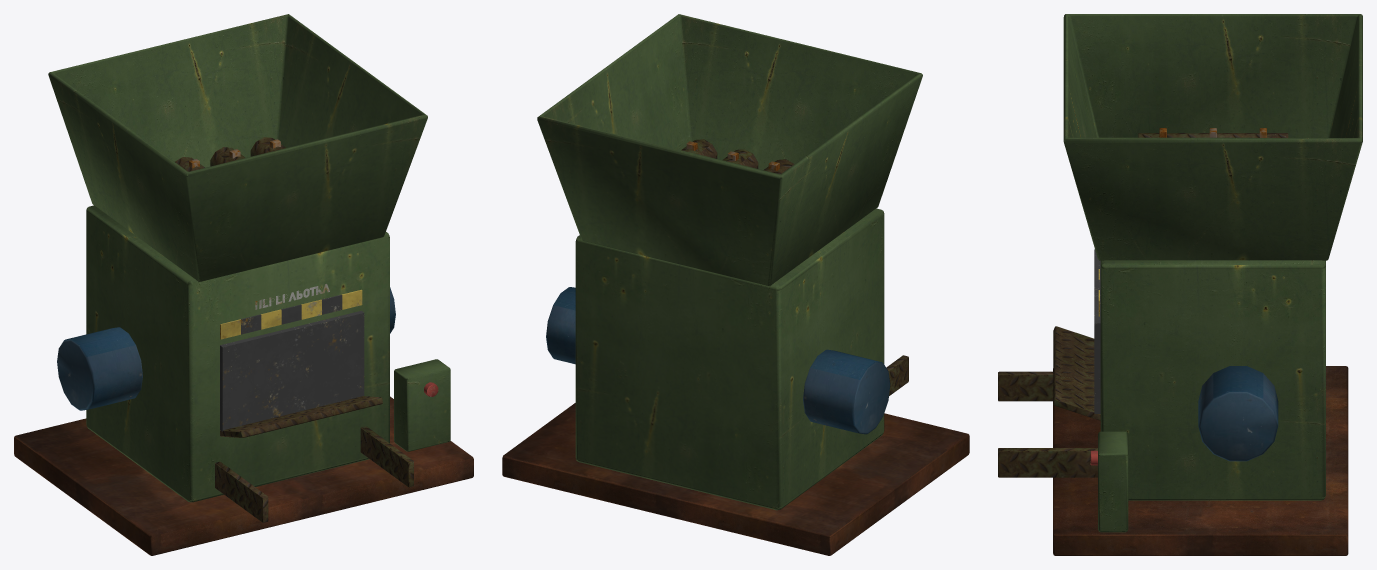
File: deploy_recycler.glb
The picture shows the model from 3 angles, left to right: view 1: azimuth 30°, elevation 25°; view 2: azimuth 150°, elevation 25°; view 3: azimuth 270°, elevation 25°; orthographic projection. The views are drawn at different scales.
Visible parts, largest first — view 1: cyl, box.001, box, box.015, cyl.005, box.026, box.023, box.025, box.024; view 2: cyl, box.001, box, cyl.005, cyl.006, box.024; view 3: cyl, box.001, box, cyl.006, box.023, box.026, box.025, box.024, box.015, cyl.001.
Part boxes in pixels (bbox=[...]): cyl: bbox=[48, 14, 427, 281]; box.001: bbox=[86, 205, 389, 502]; box: bbox=[14, 396, 473, 555]; box.015: bbox=[220, 310, 364, 431]; cyl.005: bbox=[57, 327, 142, 410]; box.026: bbox=[394, 359, 450, 451]; box.023: bbox=[220, 396, 382, 437]; box.025: bbox=[360, 426, 413, 487]; box.024: bbox=[215, 461, 268, 522]; cyl: bbox=[537, 14, 922, 286]; box.001: bbox=[575, 208, 884, 510]; box: bbox=[502, 403, 969, 555]; cyl.005: bbox=[803, 349, 890, 434]; cyl.006: bbox=[546, 287, 575, 364]; box.024: bbox=[886, 355, 908, 395]; cyl: bbox=[1063, 14, 1362, 260]; box.001: bbox=[1100, 260, 1325, 500]; box: bbox=[1053, 366, 1348, 555]; cyl.006: bbox=[1198, 366, 1278, 461]; box.023: bbox=[1053, 326, 1100, 420]; box.026: bbox=[1098, 431, 1128, 532]; box.025: bbox=[998, 448, 1097, 477]; box.024: bbox=[998, 371, 1053, 401]; box.015: bbox=[1094, 249, 1100, 413]; cyl.001: bbox=[1138, 133, 1288, 137].
Size of the model in its own units: 1.6 by 1.75 by 1.46.
9 materials, 9 textured.
